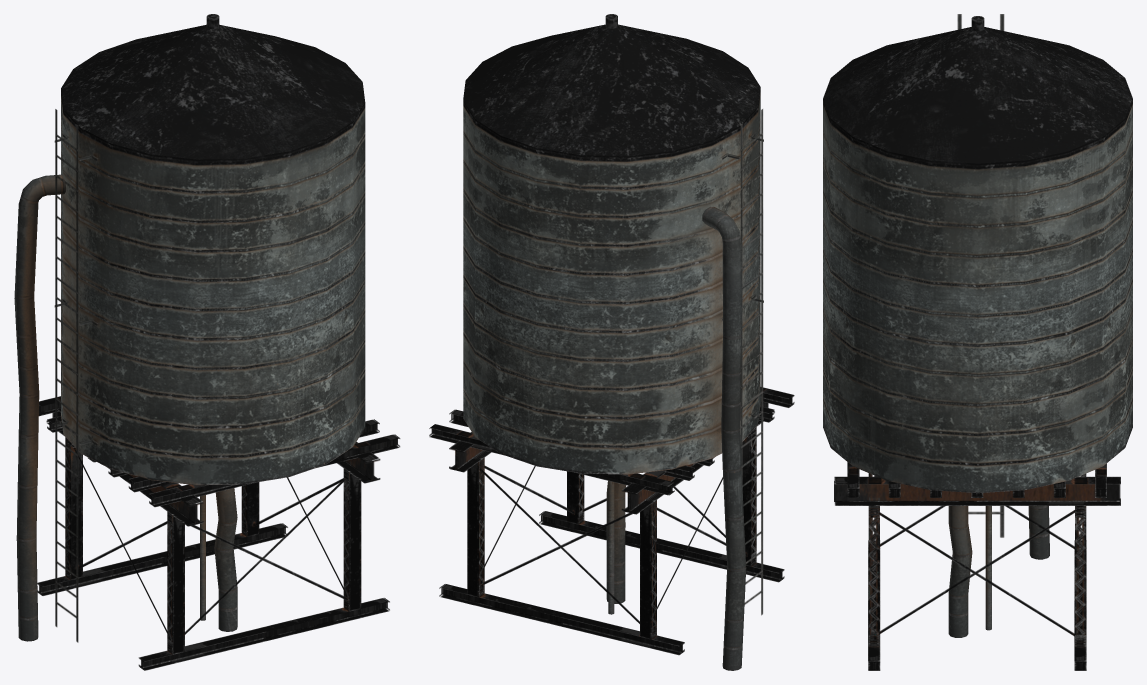
File: tanque_agua.glb
3 views of the same model, side by side, from view 1: azimuth 30°, elevation 25°; view 2: azimuth 150°, elevation 25°; view 3: azimuth 270°, elevation 25° (orthographic). The views are drawn at different scales.
Parts seen in each view (by area): view 1: Object_2; view 2: Object_2; view 3: Object_2.
Part boxes in pixels (<box>): Object_2: <box>14,14,400,670</box>; Object_2: <box>429,14,794,670</box>; Object_2: <box>823,14,1132,670</box>.
Bounding box in the file's own units: 337 × 655 × 300.
1 material, 1 textured.
